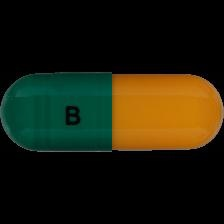62034-021: (0, 0, 224, 224)
